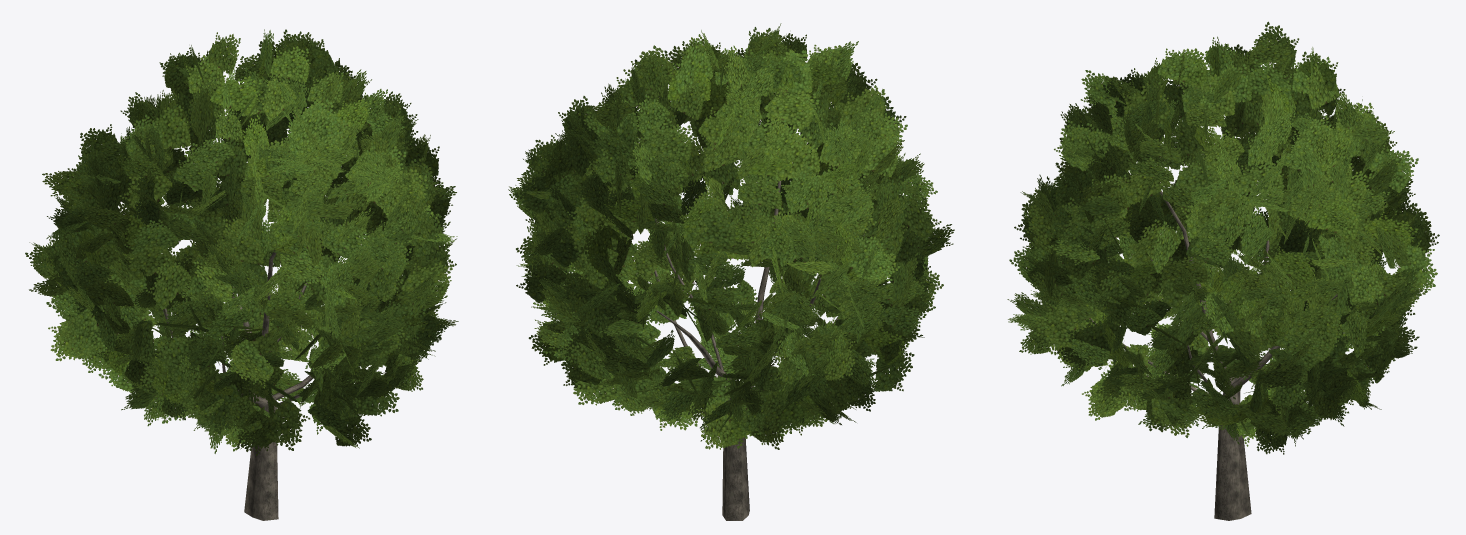
File: arbre_feuillu_rond_lod1.glb
3 views of the same model, side by side, from view 1: azimuth 30°, elevation 25°; view 2: azimuth 150°, elevation 25°; view 3: azimuth 270°, elevation 25° (orthographic). The views are drawn at different scales.
Parts seen in each view (by area): view 1: arbre_feuillu_rond_lod1; view 2: arbre_feuillu_rond_lod1; view 3: arbre_feuillu_rond_lod1.
Boxes of the visible parts, x1=… form: arbre_feuillu_rond_lod1: x1=25, y1=29, x2=458, y2=520; arbre_feuillu_rond_lod1: x1=508, y1=23, x2=954, y2=520; arbre_feuillu_rond_lod1: x1=1007, y1=21, x2=1439, y2=520.
Size of the model in its own units: 9.69 by 11.41 by 9.86.
2 materials, 2 textured.
